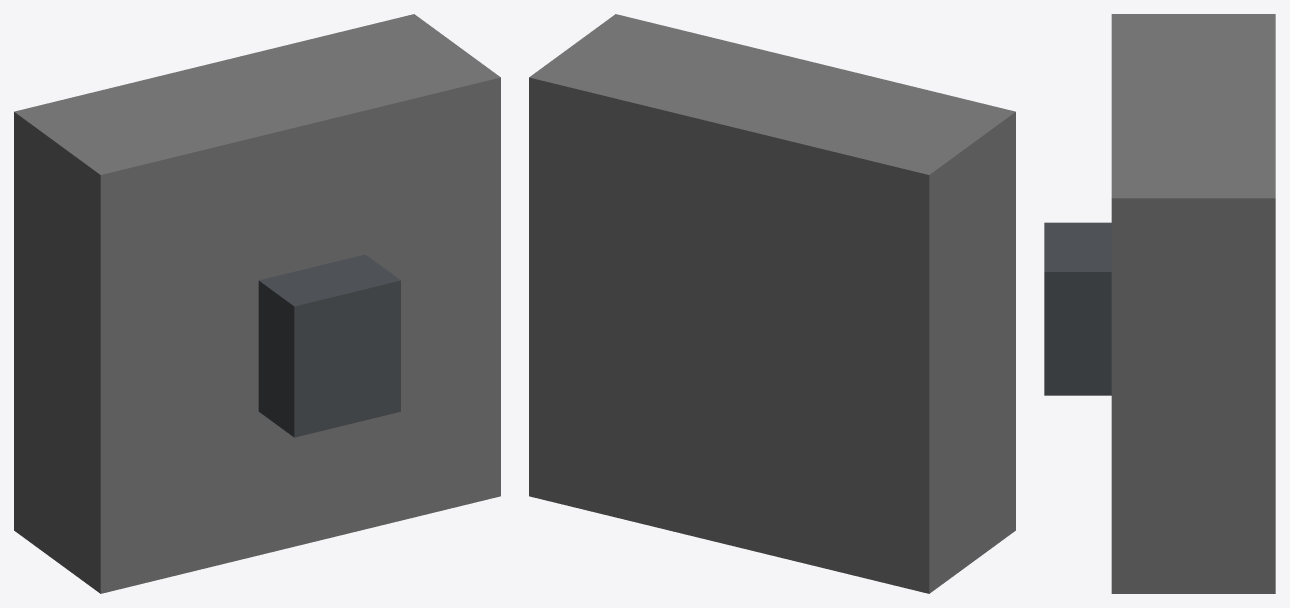
Rendered from DoorFurniture_03_dra.glb.
3 views of the same model, side by side, from view 1: azimuth 30°, elevation 25°; view 2: azimuth 150°, elevation 25°; view 3: azimuth 270°, elevation 25° (orthographic). The views are drawn at different scales.
Visible parts, largest first — view 1: DoorFurniture_03; view 2: DoorFurniture_03; view 3: DoorFurniture_03.
Part boxes in pixels (x1=…): DoorFurniture_03: x1=14, y1=14, x2=500, y2=593; DoorFurniture_03: x1=529, y1=14, x2=1015, y2=593; DoorFurniture_03: x1=1044, y1=14, x2=1275, y2=593.
Bounding box in the file's own units: 0.1921 × 0.1921 × 0.1017.
Materials: 1 (1 with a texture image).
